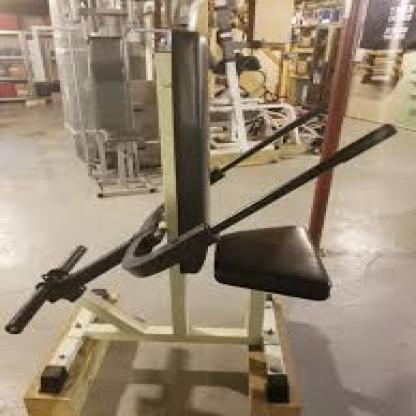seated dip machine: (4, 30, 396, 416)
